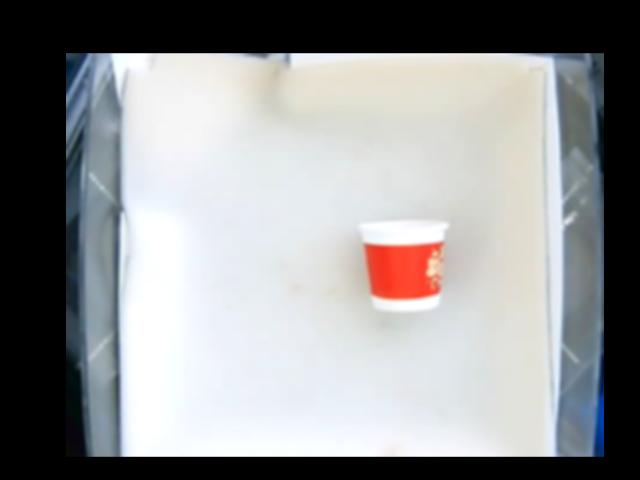Cup: (362, 218, 447, 310)
